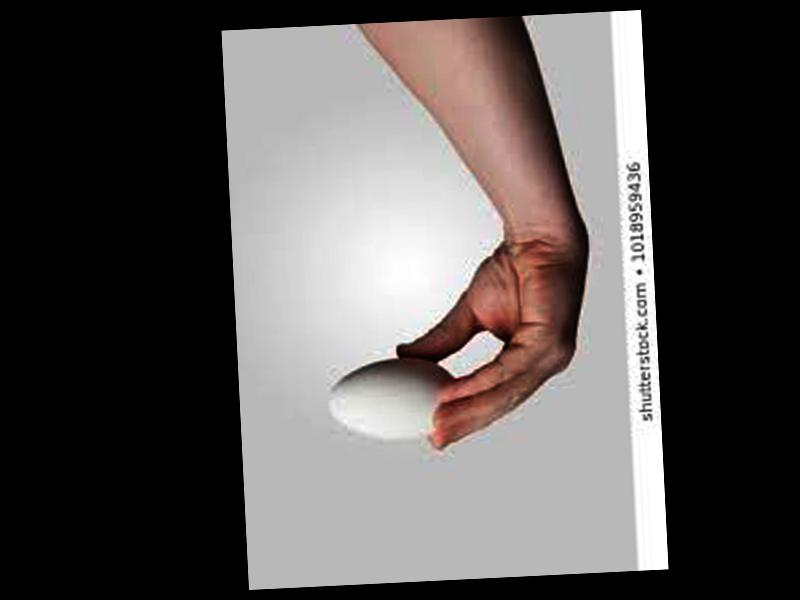Eggs: (324, 355, 458, 446)
